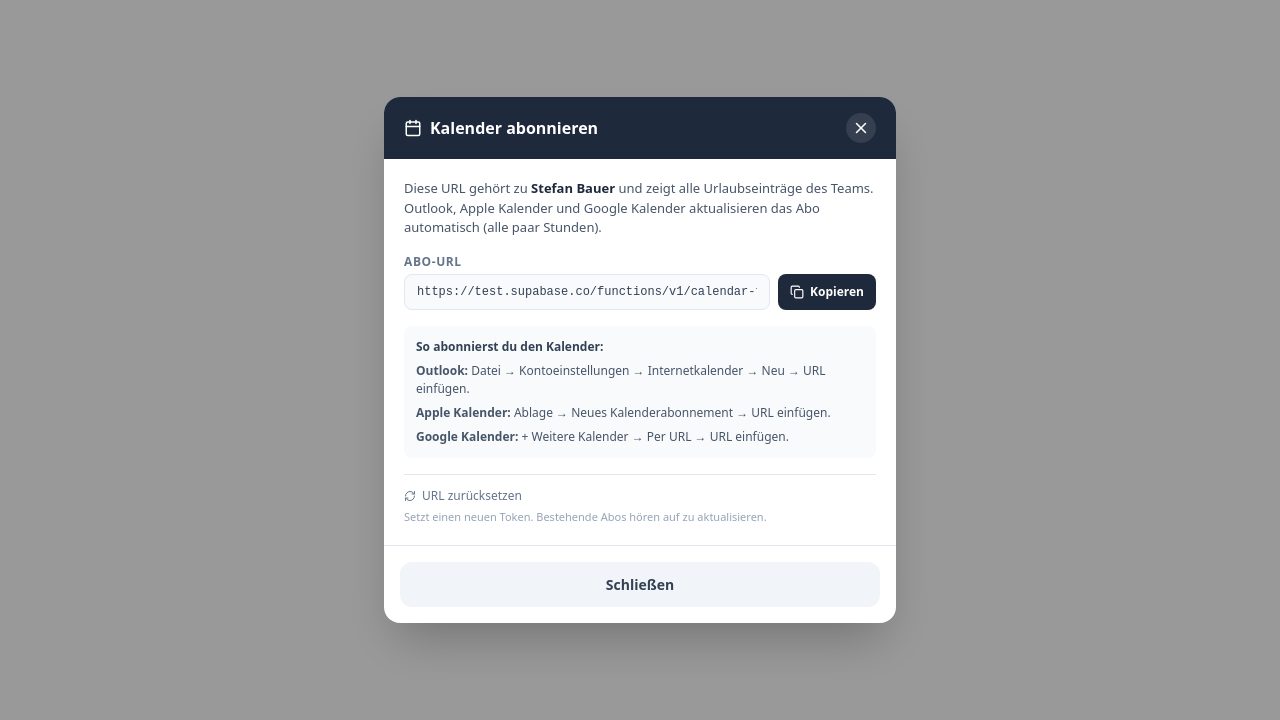
it: CalendarSubscriptionModal › copies the URL to the clipboard when "Kopieren" is clicked
Check: the field named "Kalender-Abo-URL" is shown, box [404,274,770,310]
Click the button with aria-label "URL kopieren": (827, 292) [778,274,876,310]
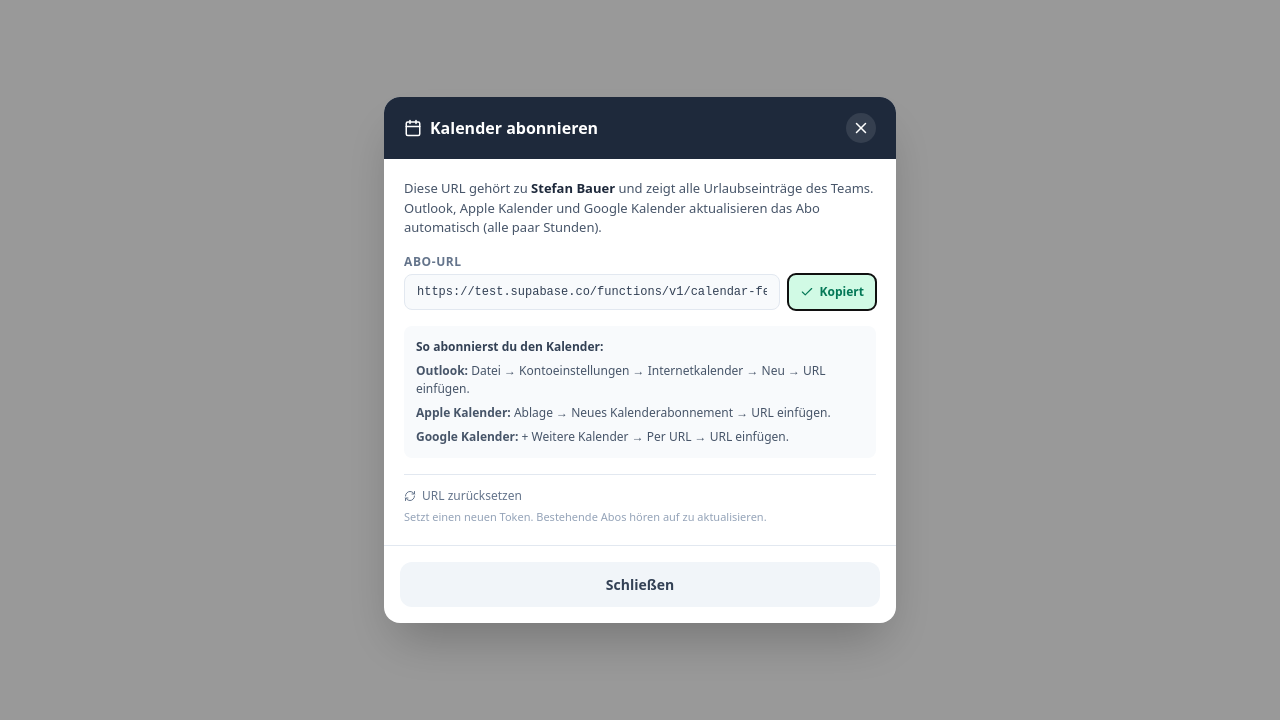
Check: the button "Kopiert" is shown, box [788,274,876,310]
